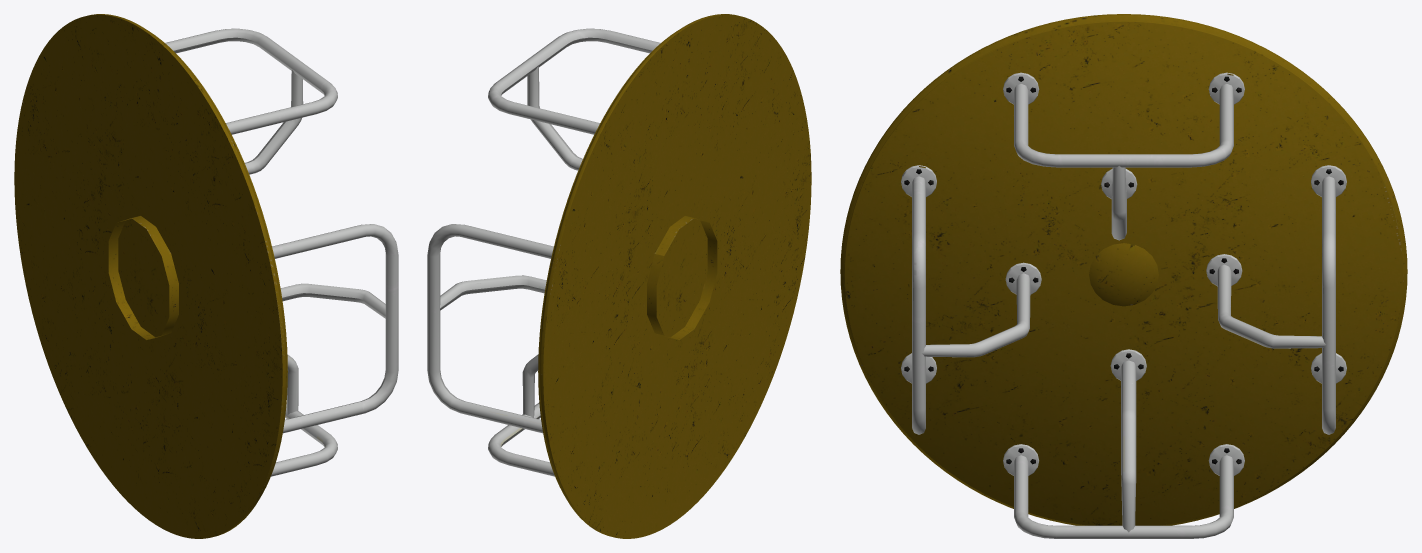
File: cP_SpinningWheel.dae
3 renders of one model, left to right at view 1: azimuth 30°, elevation 25°; view 2: azimuth 150°, elevation 25°; view 3: azimuth 270°, elevation 25°, orthographic. The views are drawn at different scales.
Parts seen in each view (by area): view 1: cP_SpinningWheel.001; view 2: cP_SpinningWheel.001; view 3: cP_SpinningWheel.001.
Boxes of the visible parts, x1,y1,x2,y2 form: cP_SpinningWheel.001: (14, 14, 398, 538); cP_SpinningWheel.001: (427, 14, 811, 538); cP_SpinningWheel.001: (840, 14, 1407, 538).
Size of the model in its own units: 1.07 by 3.06 by 3.06.
